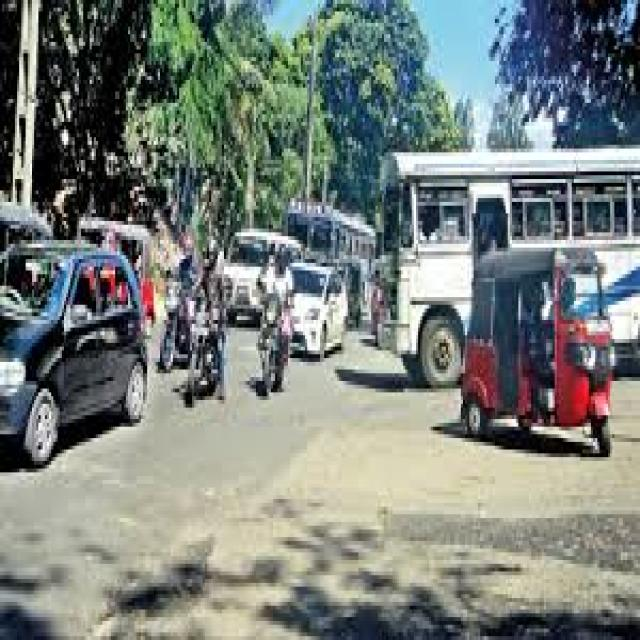bus: (378, 149, 638, 385), (288, 206, 373, 328)
car: (0, 240, 145, 465), (292, 263, 346, 358)
motorcycle: (186, 301, 224, 408), (258, 290, 288, 392), (160, 282, 188, 373)
person: (201, 251, 222, 320), (273, 251, 290, 297)
three wheeler: (463, 248, 610, 457), (79, 217, 154, 324)
van: (224, 229, 297, 324)
